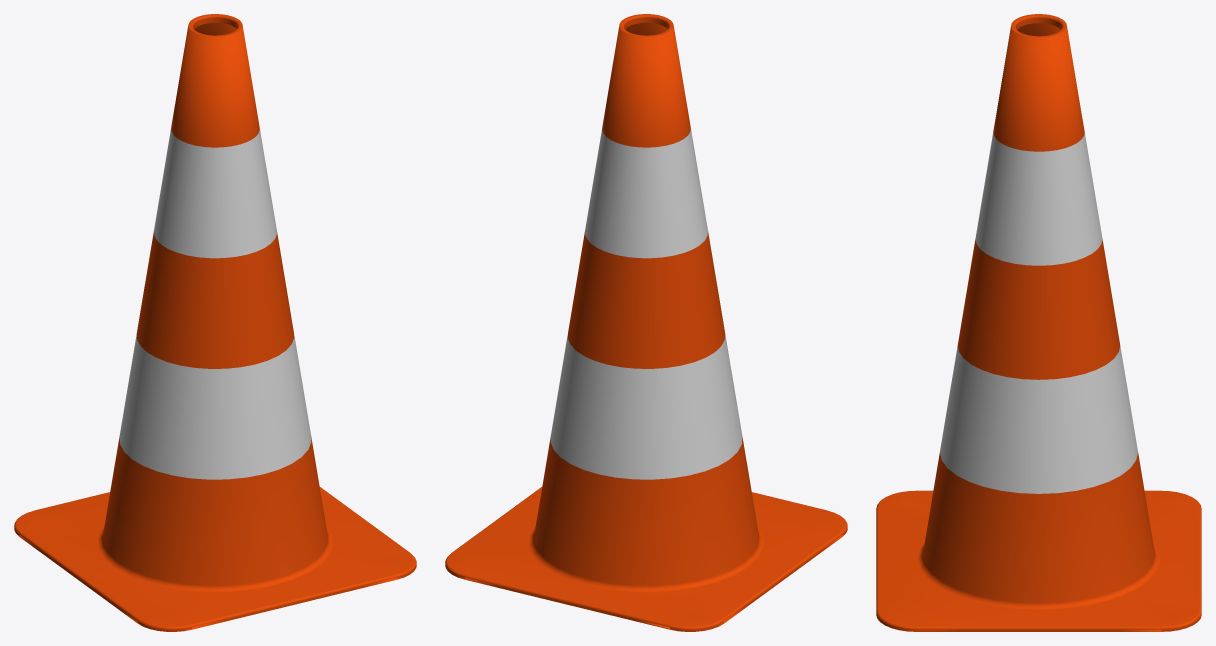
File: traffic_restriction_cone.fbx
3 renders of one model, left to right at view 1: azimuth 30°, elevation 25°; view 2: azimuth 150°, elevation 25°; view 3: azimuth 270°, elevation 25°, orthographic. The views are drawn at different scales.
Visible parts, largest first — view 1: Plane.001, Plane.002, Plane.003, Plane.004, Plane; view 2: Plane.001, Plane.002, Plane.003, Plane.004, Plane; view 3: Plane.001, Plane.002, Plane.003, Plane.004, Plane.
Boxes of the visible parts, x1,y1,x2,y2 form: Plane.001: [14, 436, 416, 631]; Plane.002: [119, 334, 311, 479]; Plane.003: [136, 230, 294, 368]; Plane.004: [154, 128, 276, 258]; Plane: [171, 14, 259, 147]; Plane.001: [445, 436, 847, 631]; Plane.002: [550, 334, 742, 479]; Plane.003: [567, 230, 725, 368]; Plane.004: [585, 128, 707, 258]; Plane: [602, 14, 690, 147]; Plane.001: [876, 452, 1201, 631]; Plane.002: [940, 346, 1137, 493]; Plane.003: [957, 239, 1120, 379]; Plane.004: [975, 133, 1102, 265]; Plane: [993, 14, 1084, 151].
Bounding box in the file's own units: 39 × 71.01 × 39.
